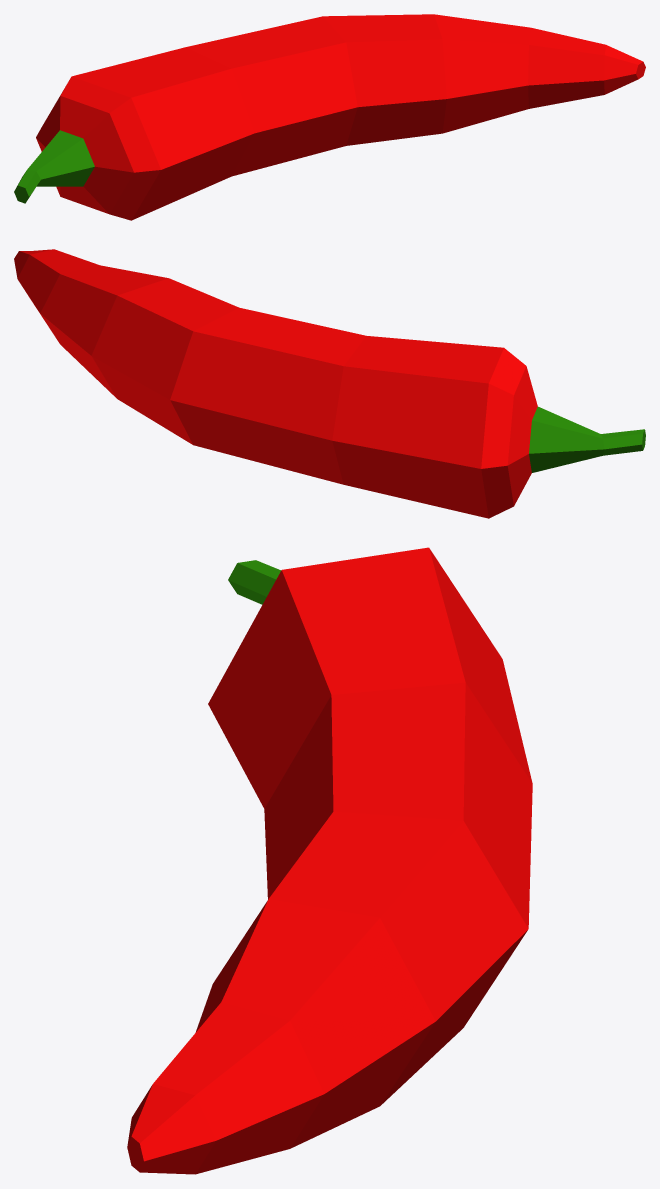
The model's file is pepperchili01.obj.
The picture shows the model from 3 angles, top to bottom: view 1: azimuth 30°, elevation 25°; view 2: azimuth 150°, elevation 25°; view 3: azimuth 270°, elevation 25°; orthographic projection. The views are drawn at different scales.
Visible parts, largest first — view 1: Cylinder; view 2: Cylinder; view 3: Cylinder.
Boxes of the visible parts, bbox=[...] form: Cylinder: bbox=[14, 14, 645, 220]; Cylinder: bbox=[14, 249, 645, 518]; Cylinder: bbox=[127, 547, 532, 1174].
Size of the model in its own units: 0.1413 by 0.0276 by 0.0412.
Materials: 1 (1 with a texture image).
